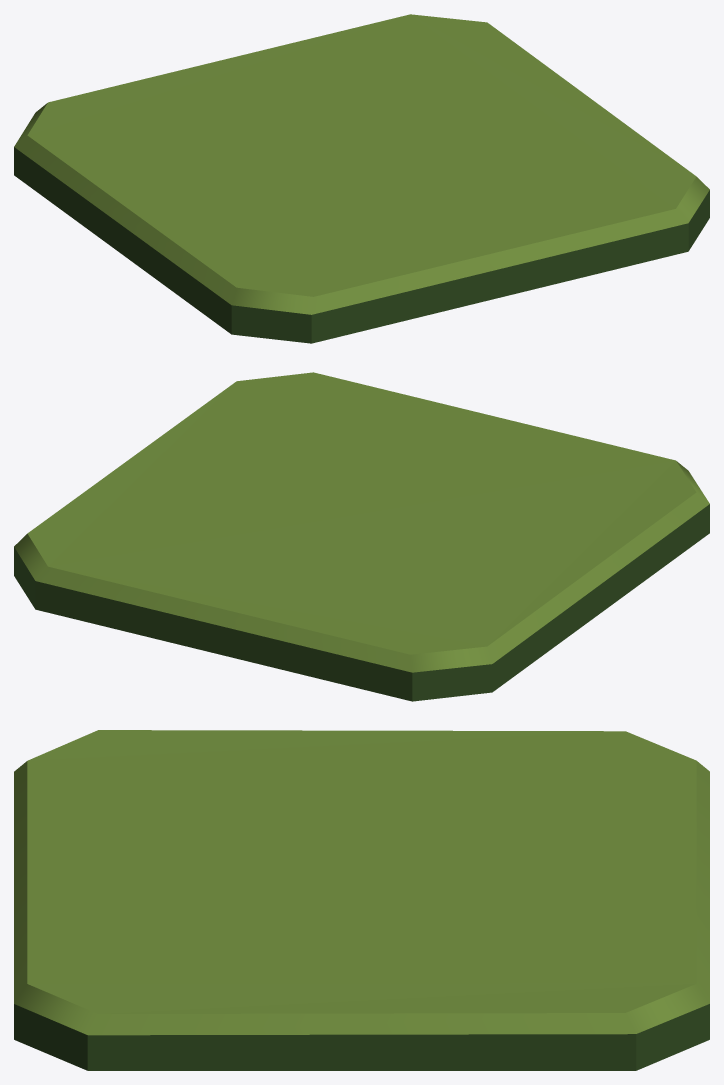
The model's file is gf_paver_large_alt.glb.
3 views of the same model, one above another, from view 1: azimuth 30°, elevation 25°; view 2: azimuth 150°, elevation 25°; view 3: azimuth 270°, elevation 25° (orthographic). The views are drawn at different scales.
Visible parts, largest first — view 1: gf_paver_large_alt; view 2: gf_paver_large_alt; view 3: gf_paver_large_alt.
Boxes of the visible parts, bbox=[...] form: gf_paver_large_alt: bbox=[14, 14, 709, 343]; gf_paver_large_alt: bbox=[14, 372, 709, 701]; gf_paver_large_alt: bbox=[14, 730, 709, 1070].
Size of the model in its own units: 0.66 by 0.0549 by 0.66.
